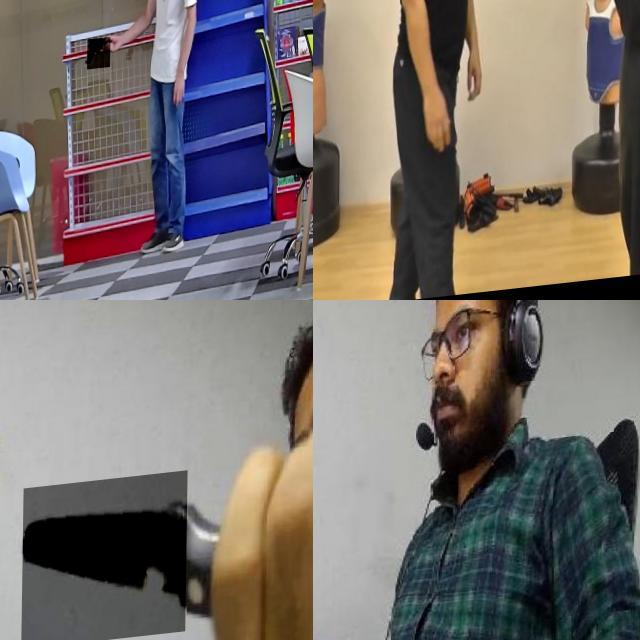-: (23, 480, 188, 640), (313, 478, 342, 640), (472, 0, 520, 50)
gun-knife-thesis - v11 Yolov5 augmented: (88, 45, 111, 77)
